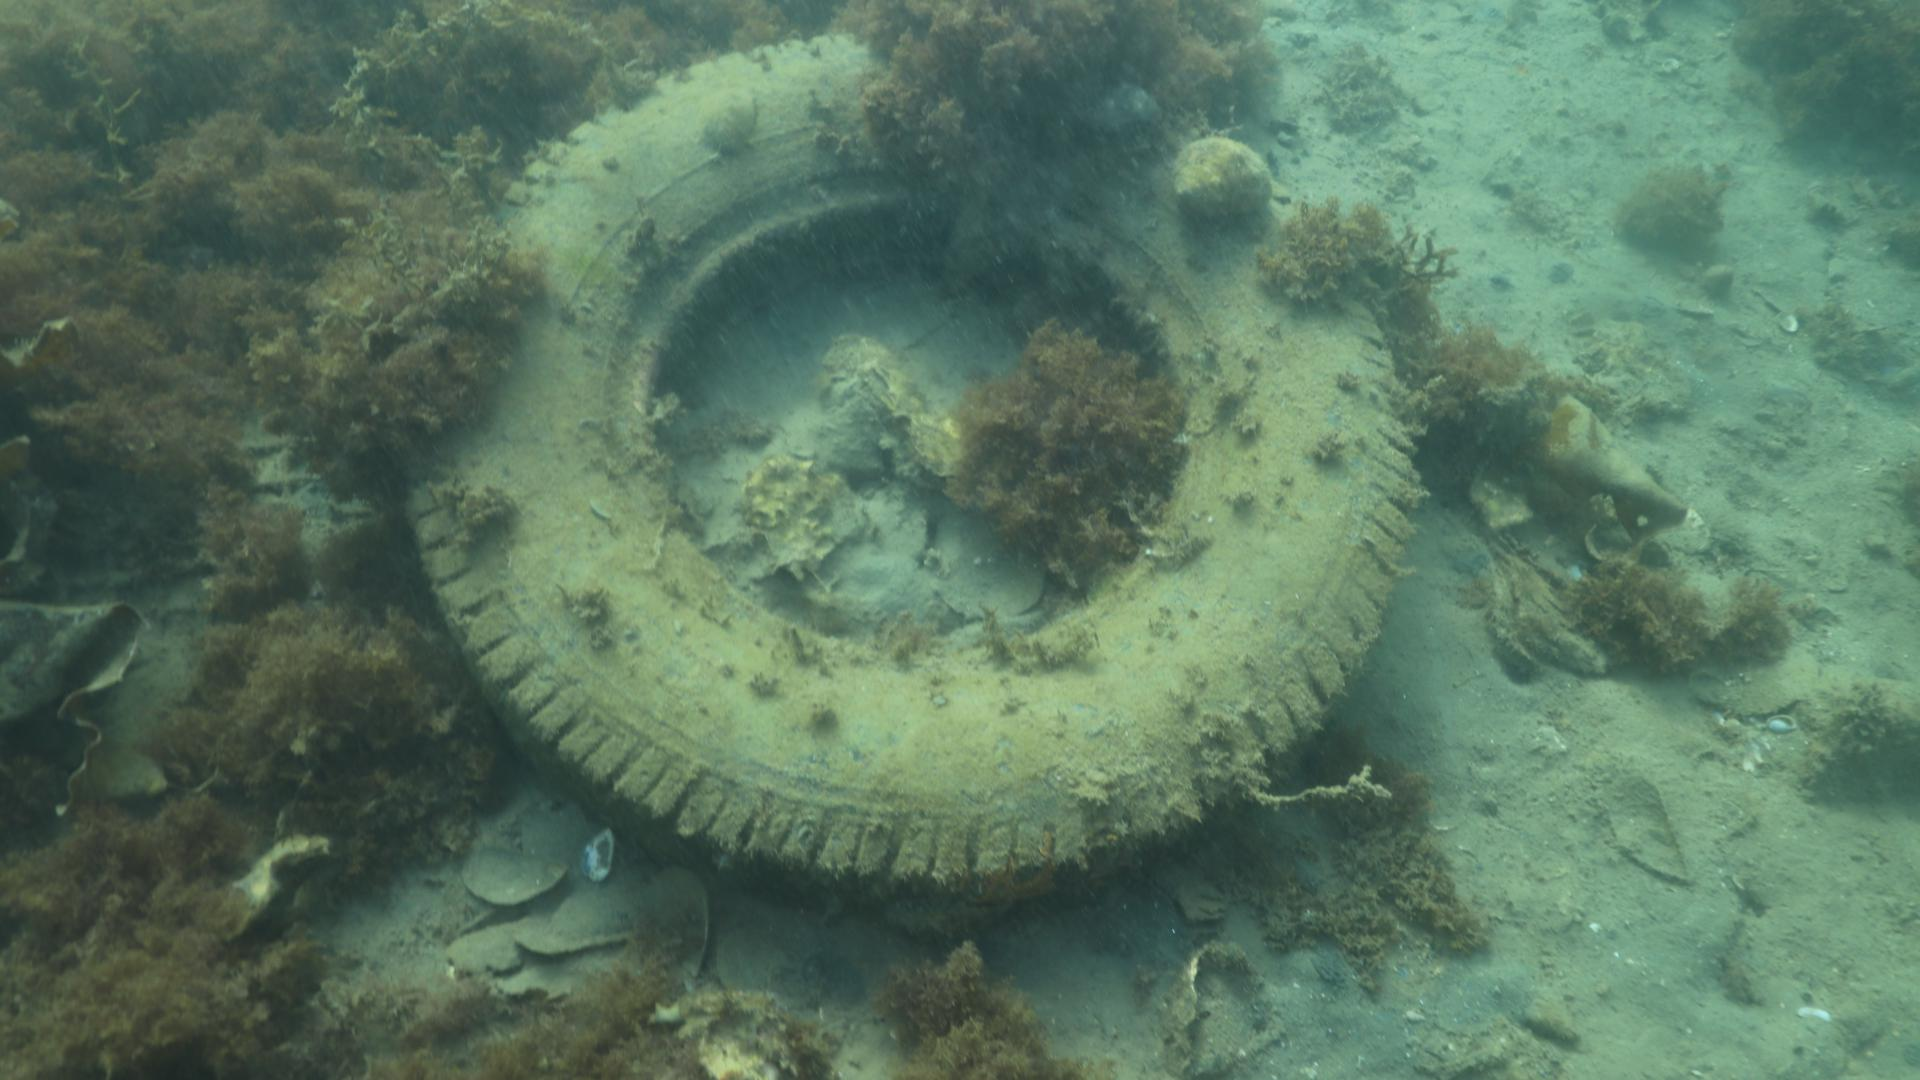tire: (402, 32, 1415, 930)
